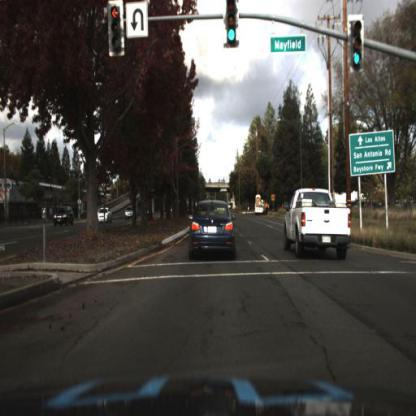car: (281, 182, 355, 265), (188, 199, 239, 259), (52, 204, 73, 230), (253, 195, 267, 219), (255, 194, 267, 217), (98, 206, 112, 224), (124, 207, 138, 224)
trafficLight-Green: (350, 34, 364, 74)
